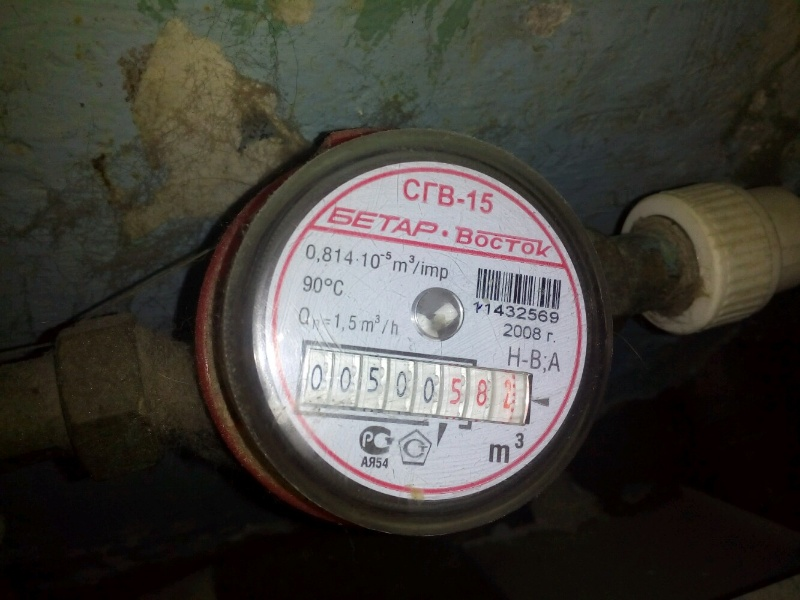meter: (305, 355, 515, 420)
